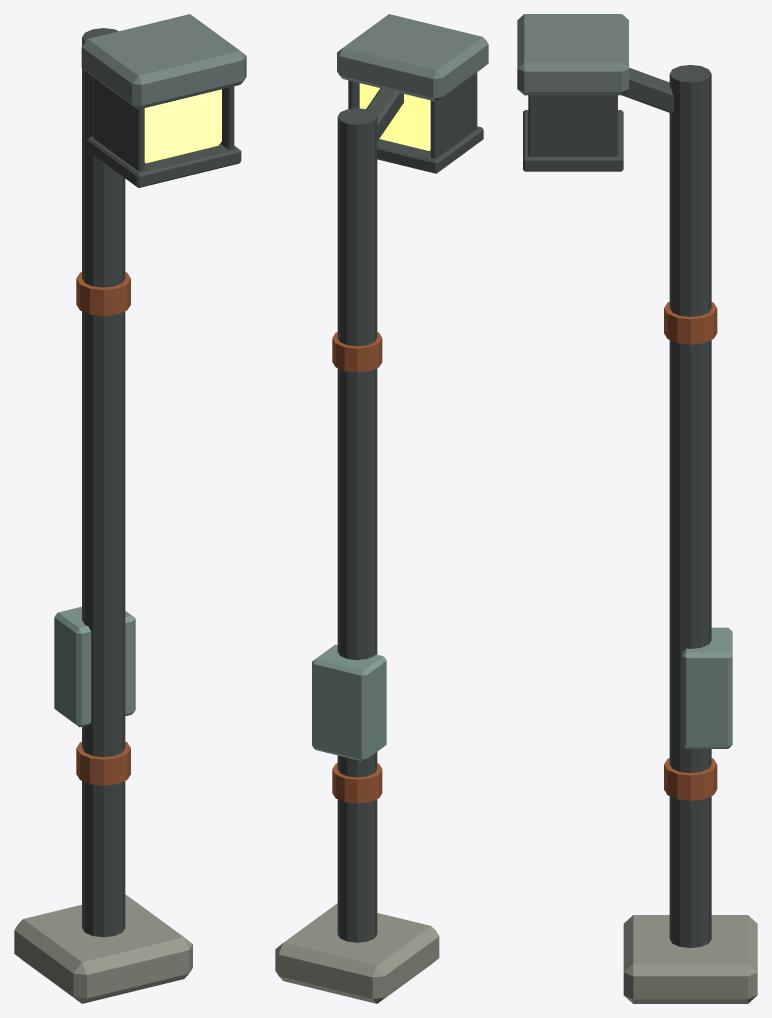
The model's file is yard_lamp.glb.
The picture shows the model from 3 angles, left to right: view 1: azimuth 30°, elevation 25°; view 2: azimuth 150°, elevation 25°; view 3: azimuth 270°, elevation 25°; orthographic projection. The views are drawn at different scales.
Parts seen in each view (by area): view 1: Body_yard_lamp; view 2: Body_yard_lamp; view 3: Body_yard_lamp.
Part boxes in pixels (x1=…): Body_yard_lamp: x1=14, y1=14, x2=246, y2=1003; Body_yard_lamp: x1=275, y1=14, x2=488, y2=1003; Body_yard_lamp: x1=517, y1=14, x2=757, y2=1003.
Bounding box in the file's own units: 0.48 × 3.72 × 0.86.
